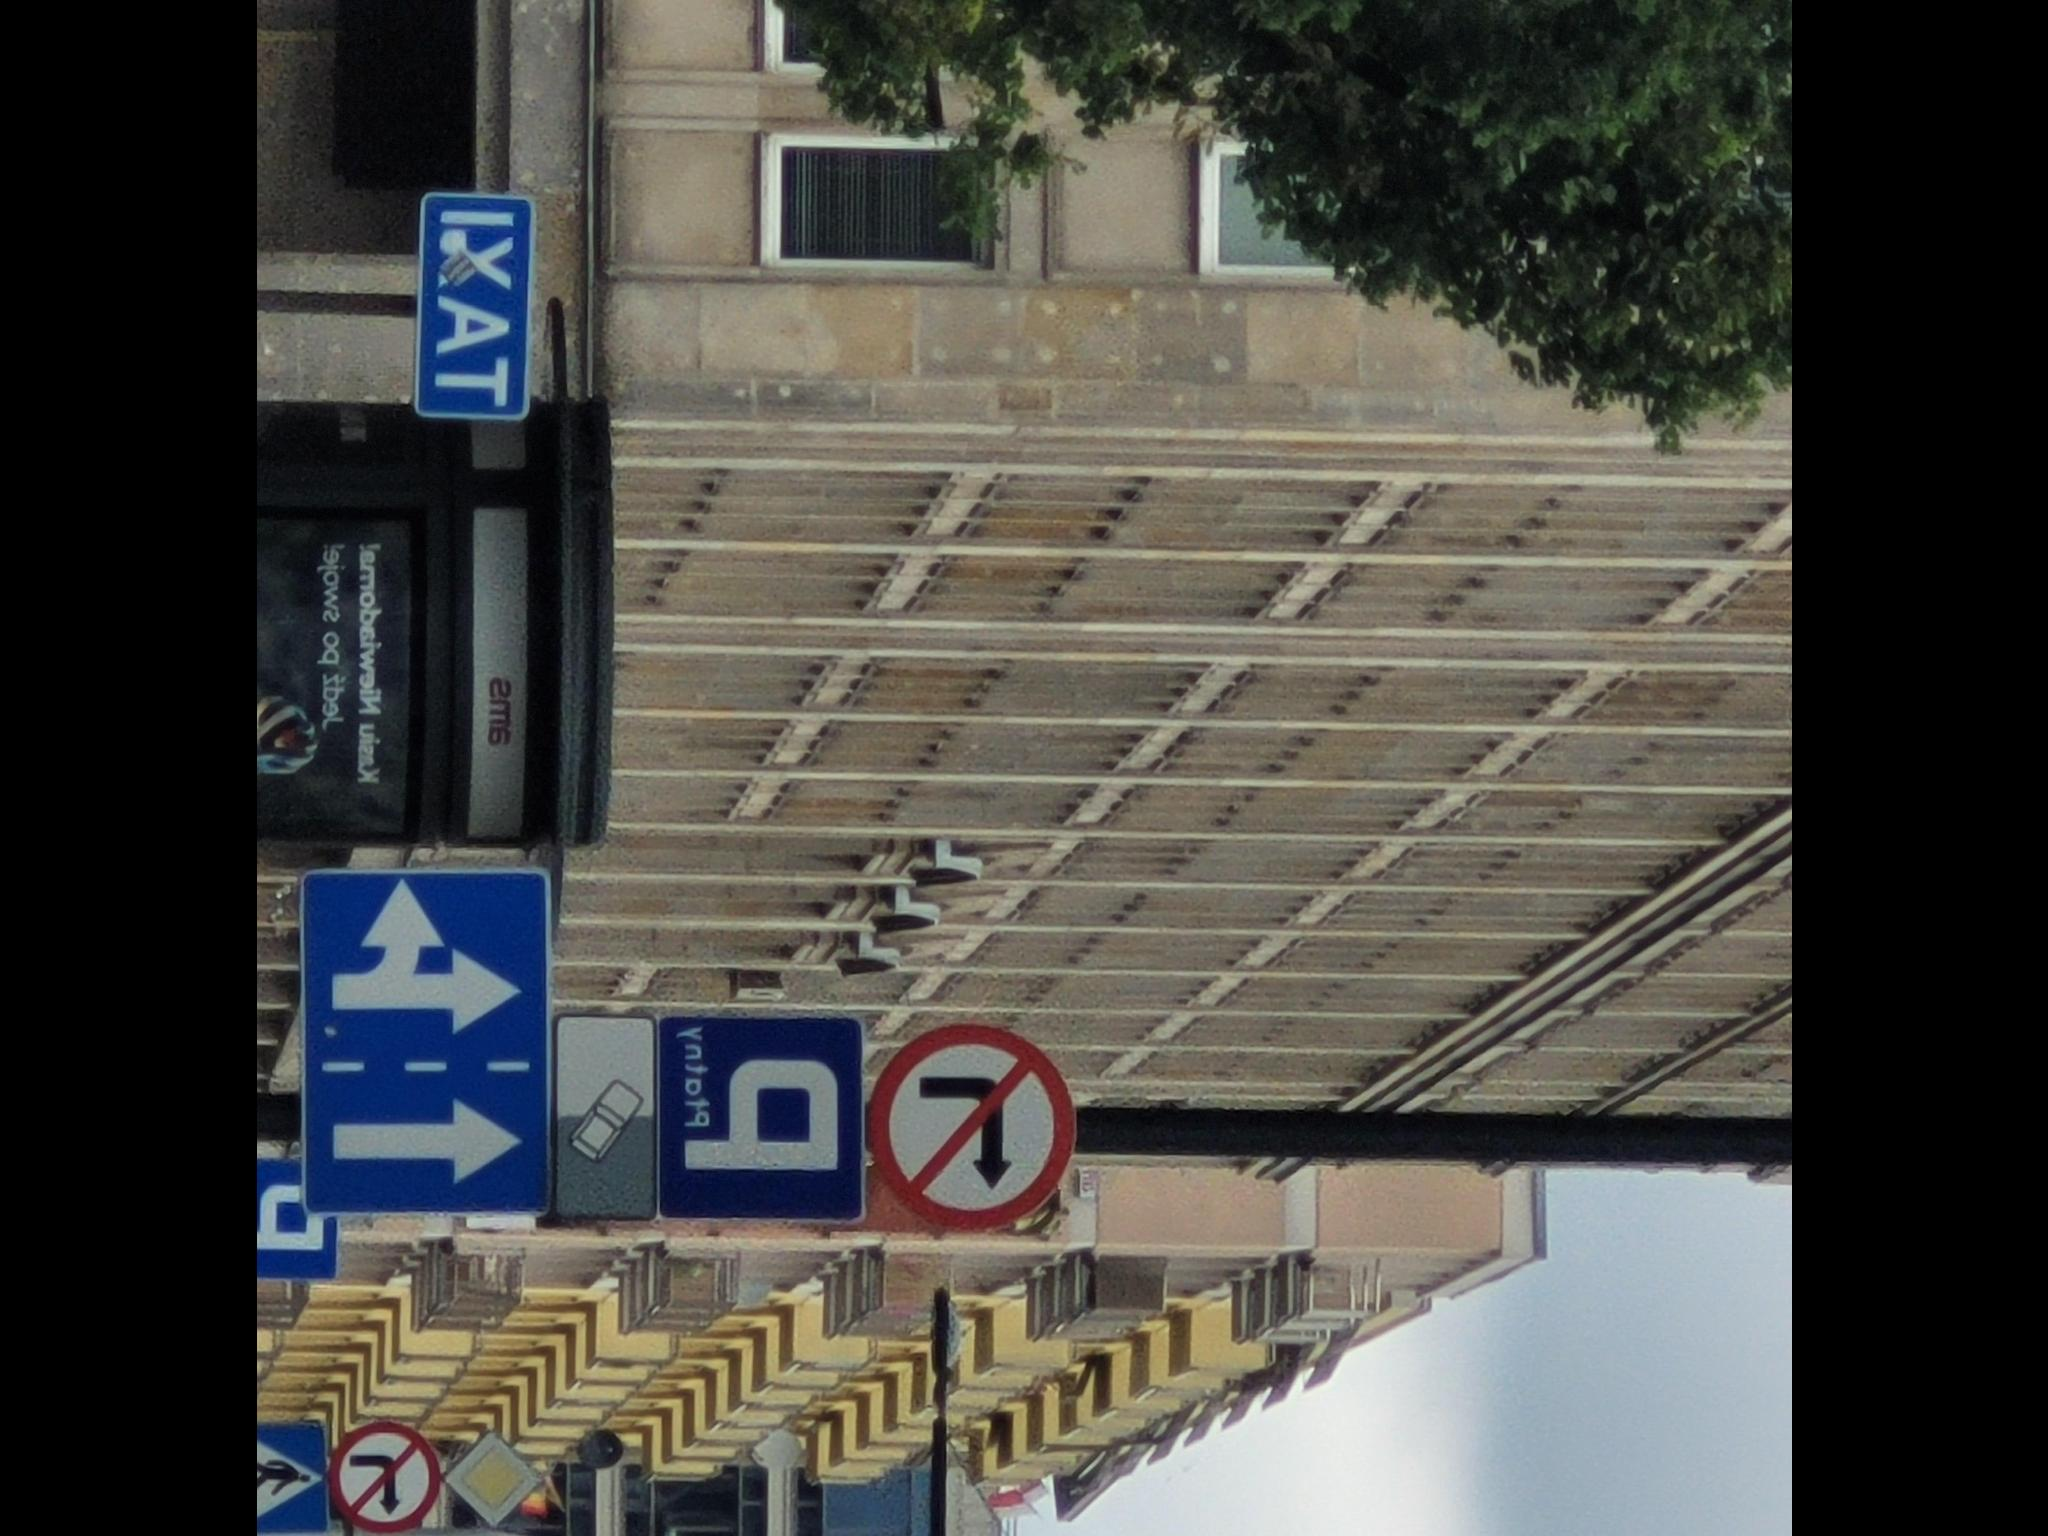information: (658, 1015, 860, 1220), (663, 1021, 861, 1220), (419, 198, 524, 416), (256, 1162, 334, 1279), (442, 1434, 540, 1526), (256, 1426, 326, 1534)
other: (300, 871, 542, 1210), (548, 1013, 655, 1220)
prohibitory: (866, 1021, 1077, 1233), (329, 1420, 440, 1536)
